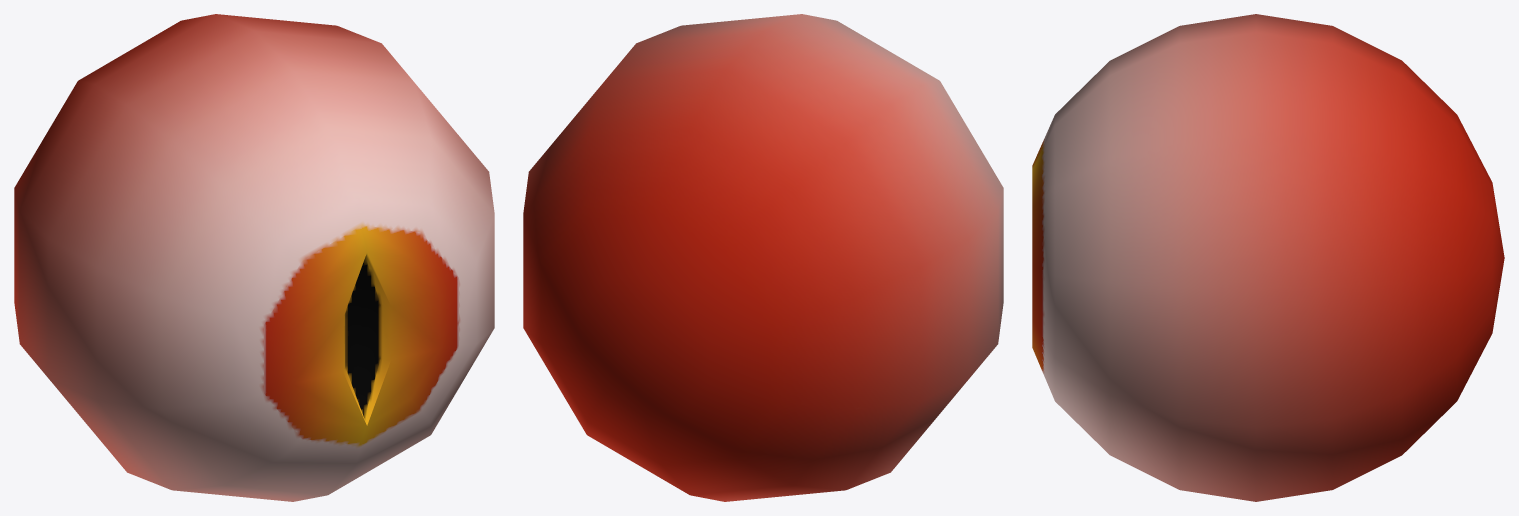
The model's file is Eye.fbx.
3 views of the same model, side by side, from view 1: azimuth 30°, elevation 25°; view 2: azimuth 150°, elevation 25°; view 3: azimuth 270°, elevation 25° (orthographic).
Visible parts, largest first — view 1: Eye; view 2: Eye; view 3: Eye.
Part boxes in pixels (x1=…): Eye: x1=14, y1=14, x2=494, y2=501; Eye: x1=523, y1=14, x2=1003, y2=501; Eye: x1=1032, y1=14, x2=1504, y2=501.
Size of the model in its own units: 190 by 200 by 190.
Materials: 1 (1 with a texture image).
